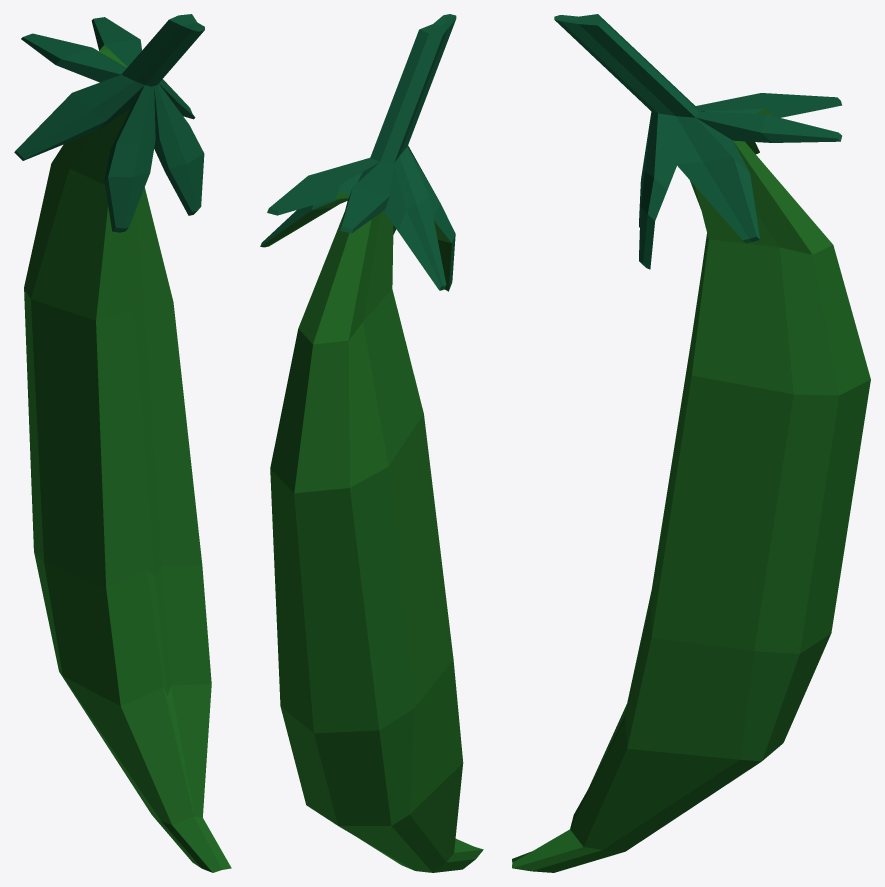
File: done_pea.glb
The picture shows the model from 3 angles, left to right: view 1: azimuth 30°, elevation 25°; view 2: azimuth 150°, elevation 25°; view 3: azimuth 270°, elevation 25°; orthographic projection. The views are drawn at different scales.
Parts seen in each view (by area): view 1: done pea; view 2: done pea; view 3: done pea.
Part boxes in pixels (x1,y1,x2,y2): done pea: [14, 14, 231, 872]; done pea: [260, 14, 483, 872]; done pea: [512, 14, 870, 872].
Size of the model in its own units: 0.133 by 0.6046 by 0.2312.
